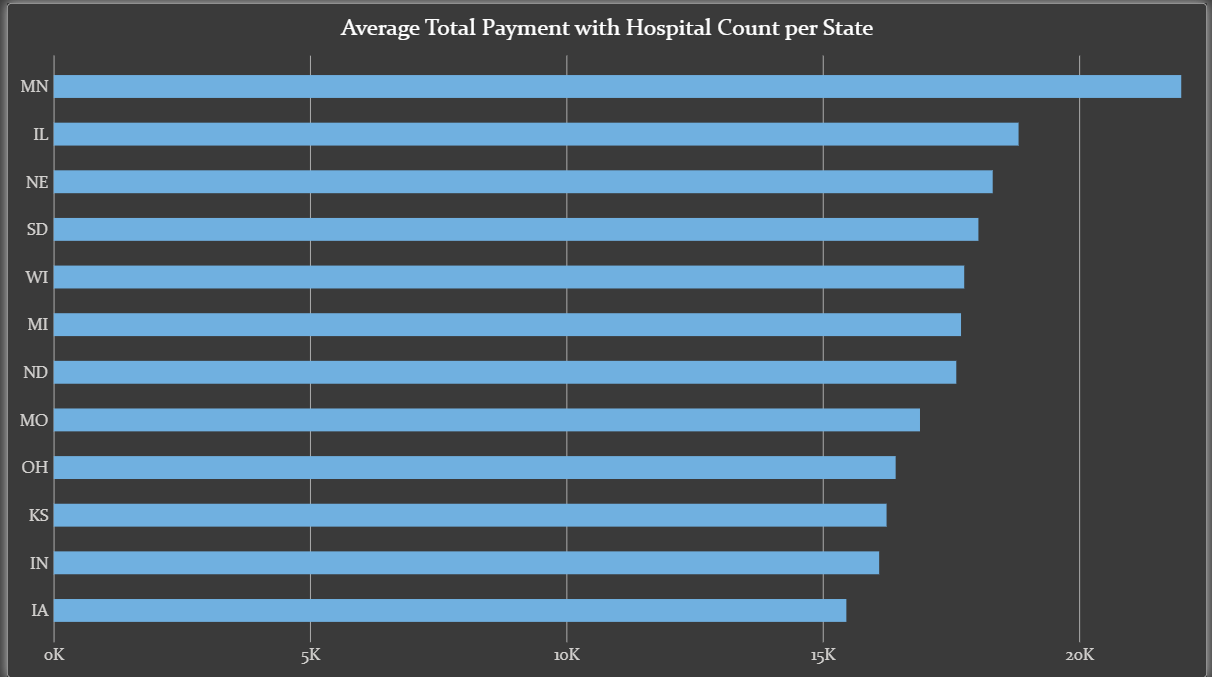

The page's visual inventory and layout, read from the dashboard file:
{"tool":"powerbi","page":{"name":"Payperstate","canvas":[1920,1080],"ordinal":2},"visuals":[{"type":"barChart","title":"Average Total Payment with Hospital Count per State","fields":{"Category":["Question1_output.state"],"Y":["Avg(Question1_output.total_payment_amt)"]},"box":[0,0,1920,1080],"z":0}]}

Visuals, with their boxes in screenshot pixels (x1, y1, x2, y2), scaled from the page's 1920x1080 canvas onto the 1212x677 screenshot:
"Average Total Payment with Hospital Count per State" barChart: 0/0/1211/676
